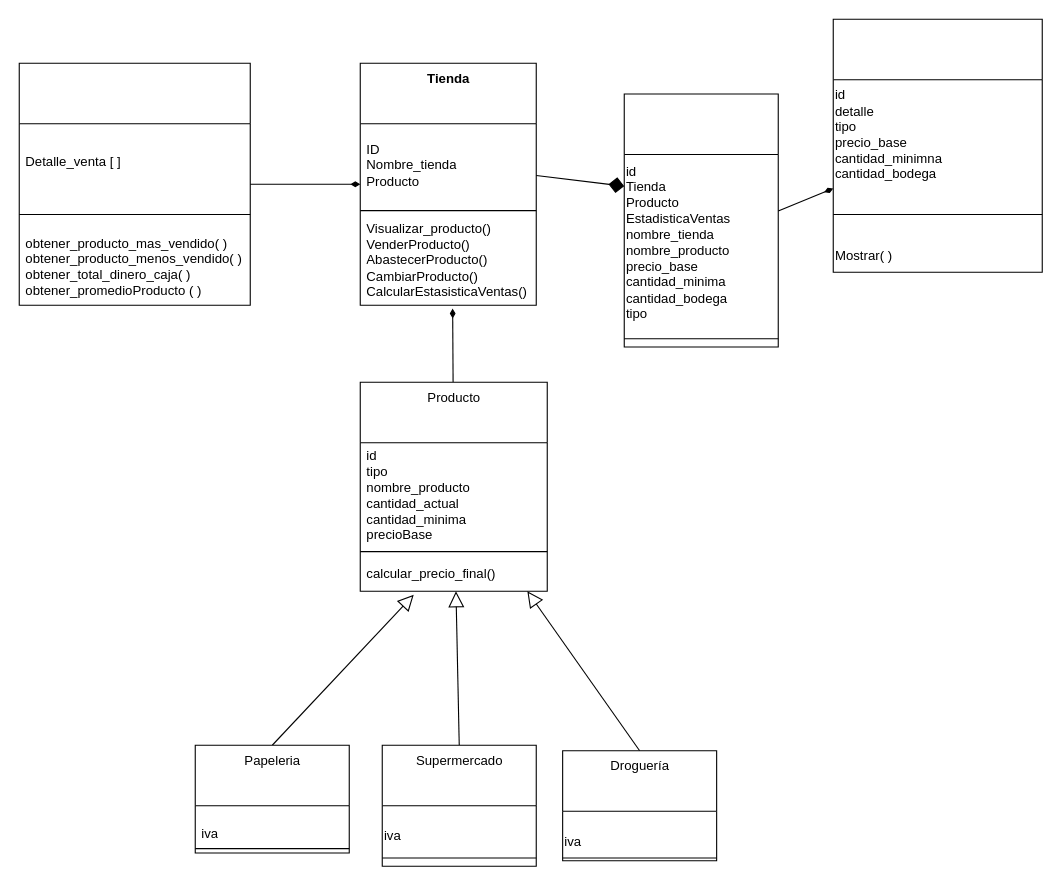
Some shapes in this 1062 by 886 pixel diagram are drawn without their labels. Here are the shapes that lost their labels. From the top down, the box of each, then its label:
(832, 18, 1042, 272): Nomina
(18, 62, 250, 305): EstadisticaVentas
(623, 93, 778, 347): DetalleVenta
